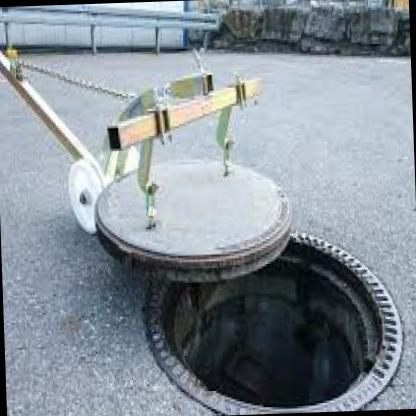manholes: (70, 81, 412, 416)
